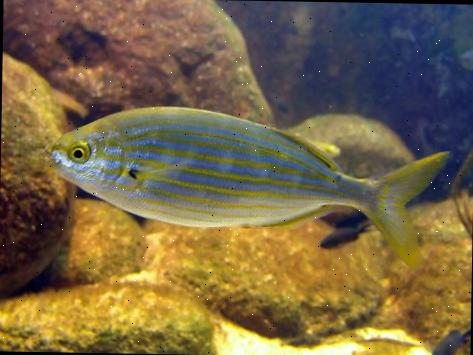fish: (42, 104, 451, 264)
